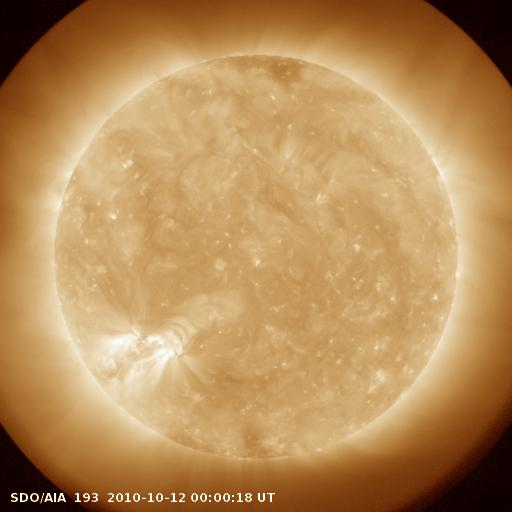coronal_hole: (218, 49, 322, 90)
